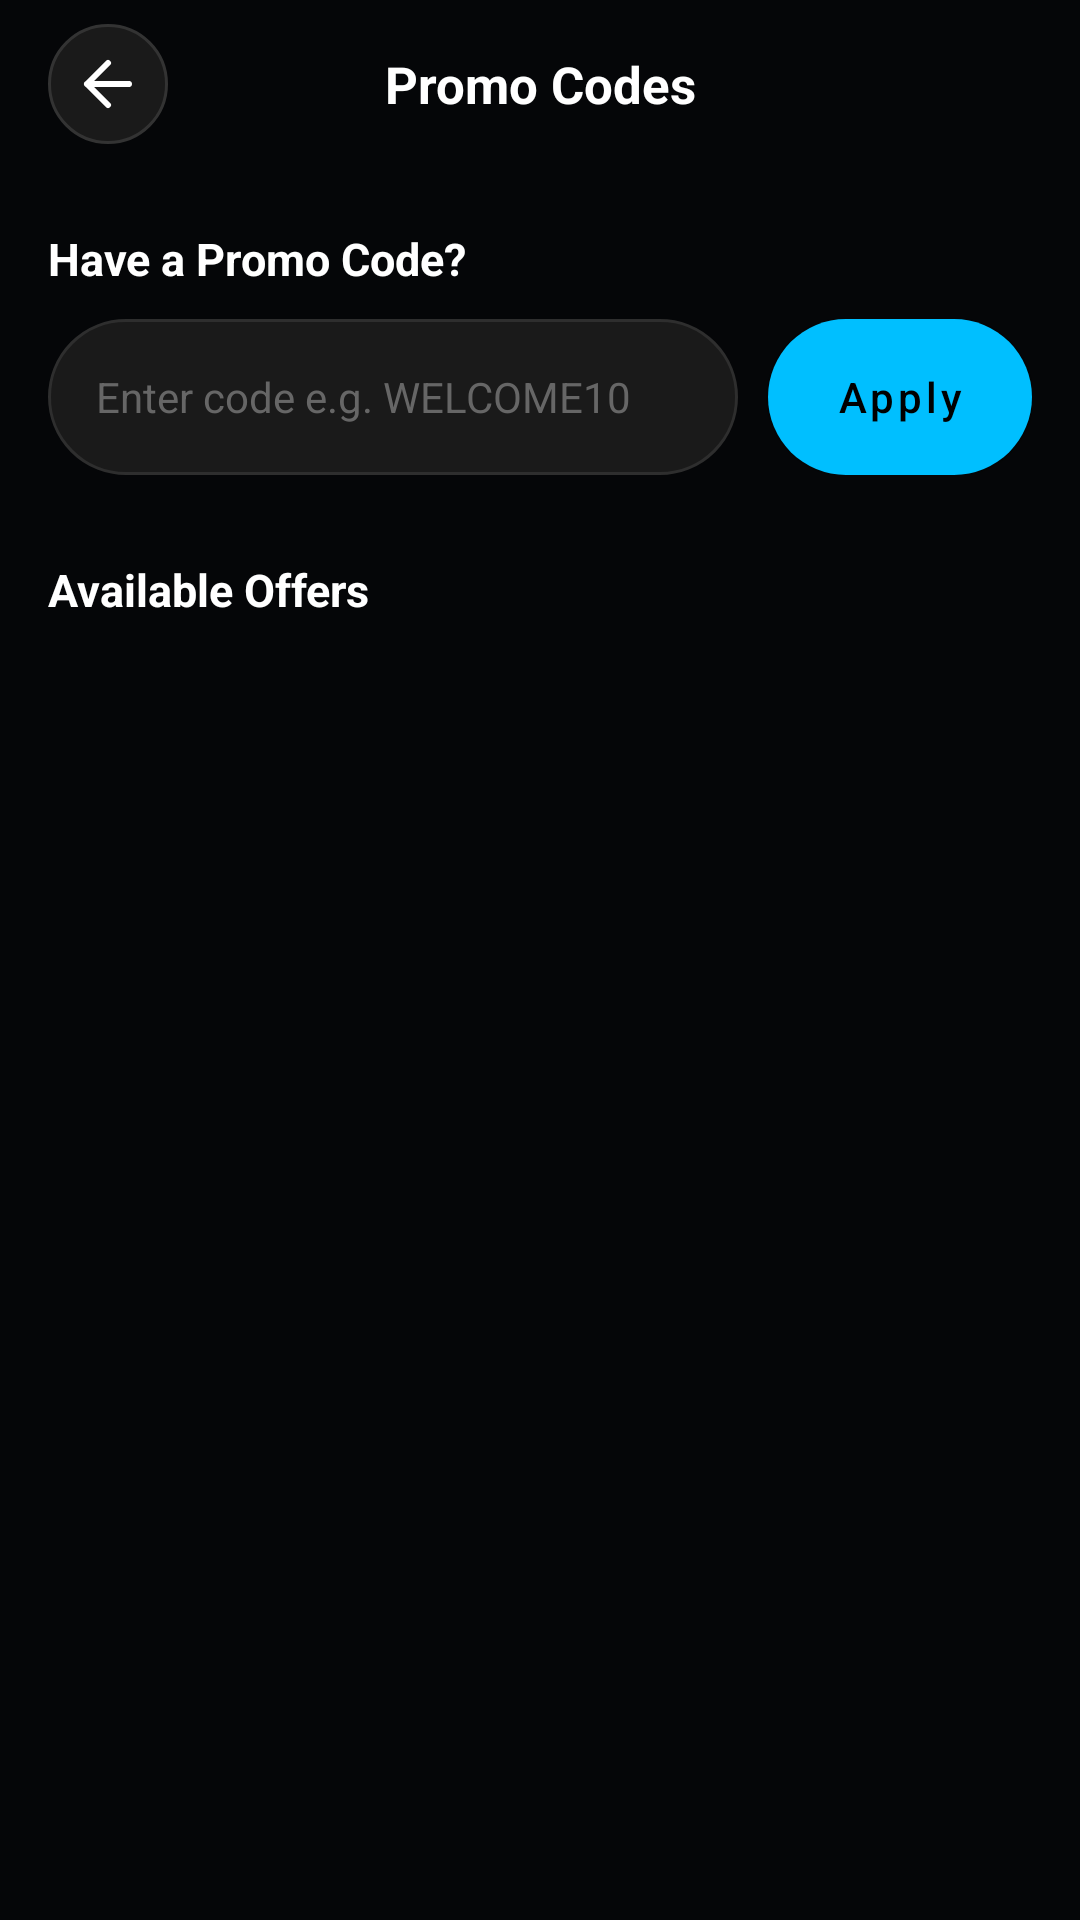

Icons on this 1080px x 1920px Android screen, each with its box as (x1, y1, x2, y2):
Back: (48, 24, 168, 144)
